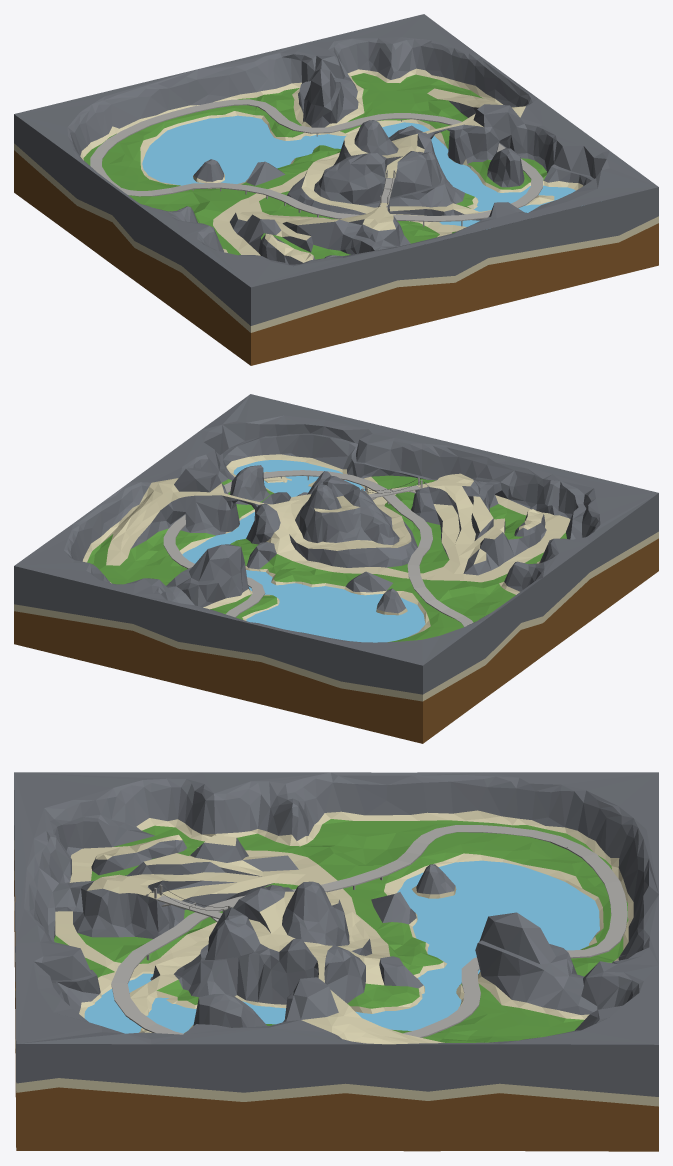
File: low-poly-playland.glb
3 views of the same model, one above another, from view 1: azimuth 30°, elevation 25°; view 2: azimuth 150°, elevation 25°; view 3: azimuth 270°, elevation 25° (orthographic). The views are drawn at different scales.
Visible parts, largest first — view 1: Landscape_lvl1, Landscape_lvl1.001, water_lvl1, racetrack; view 2: Landscape_lvl1, Landscape_lvl1.001, water_lvl1, racetrack; view 3: Landscape_lvl1, Landscape_lvl1.001, water_lvl1, racetrack, bridge_lvl1.
Part boxes in pixels (x1,y1,x2,y2): Landscape_lvl1: (14, 14, 658, 287); Landscape_lvl1.001: (14, 114, 658, 365); water_lvl1: (142, 115, 575, 226); racetrack: (90, 99, 543, 221); Landscape_lvl1: (14, 394, 658, 665); Landscape_lvl1.001: (14, 493, 658, 743); water_lvl1: (182, 460, 425, 642); racetrack: (163, 470, 473, 626); Landscape_lvl1: (14, 772, 658, 1044); Landscape_lvl1.001: (14, 790, 658, 1151); water_lvl1: (84, 860, 599, 1033); racetrack: (111, 825, 627, 1037); bridge_lvl1: (145, 884, 230, 922).
Size of the model in its own units: 1000 by 255 by 1000.
